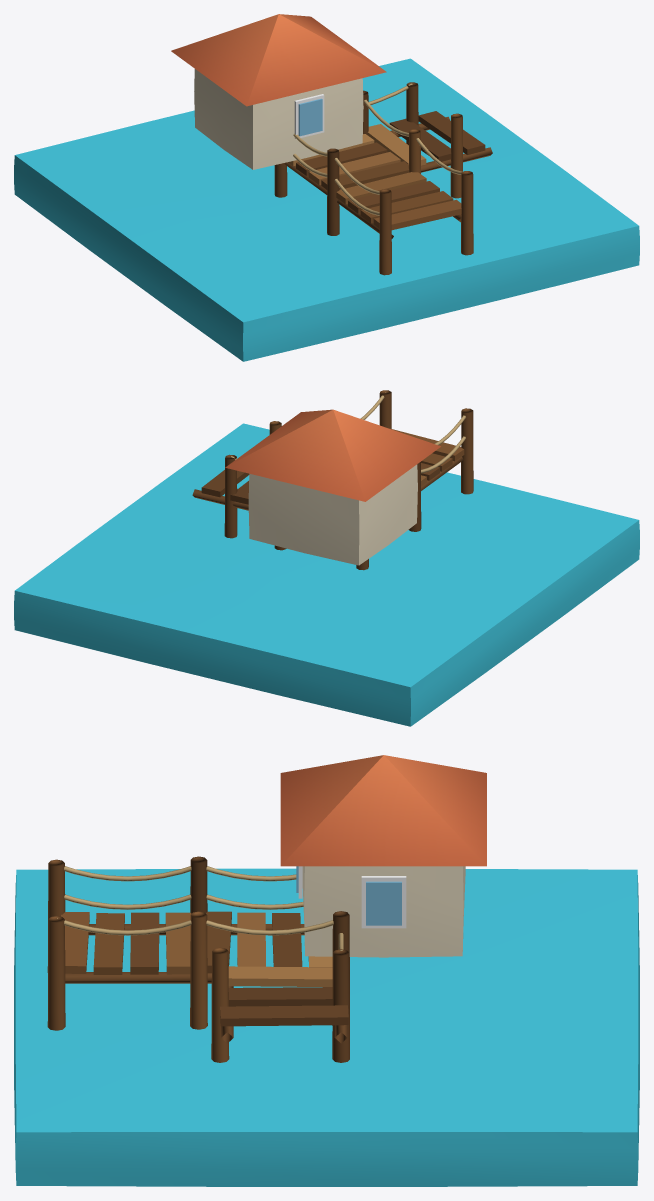
File: Pier_L1.obj
The picture shows the model from 3 angles, top to bottom: view 1: azimuth 30°, elevation 25°; view 2: azimuth 150°, elevation 25°; view 3: azimuth 270°, elevation 25°; orthographic projection. The views are drawn at different scales.
Visible parts, largest first — view 1: Pier_L1; view 2: Pier_L1; view 3: Pier_L1.
Part boxes in pixels (box(x1,y1,x2,y2)): Pier_L1: box(14, 14, 639, 361); Pier_L1: box(14, 390, 639, 726); Pier_L1: box(14, 755, 639, 1186).
Bounding box in the file's own units: 4.4 × 2.3 × 4.4.
1 material, 1 textured.
